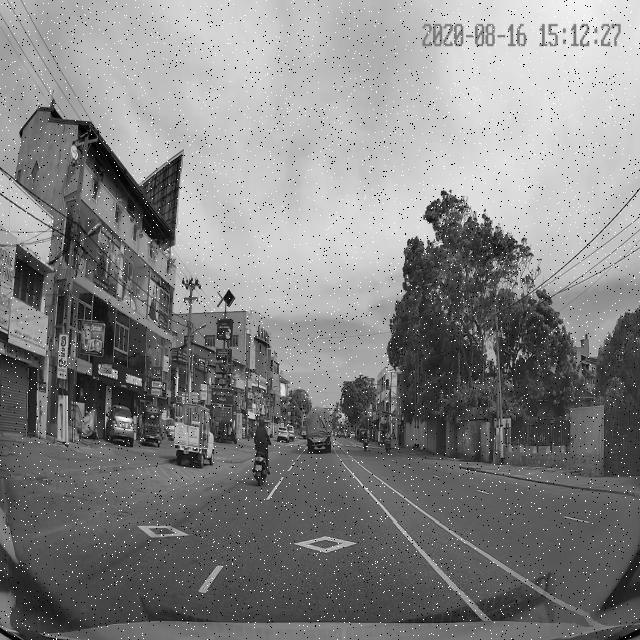diamond: (193, 522, 466, 591)
